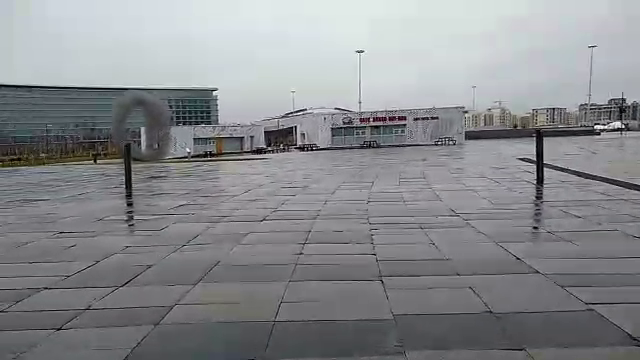kebab: (319, 112, 449, 147)
